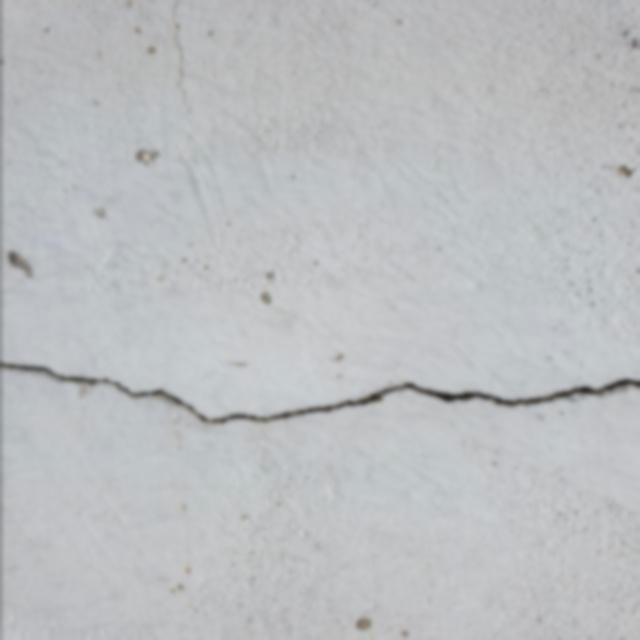SurfaceCrack: (1, 320, 640, 459)
